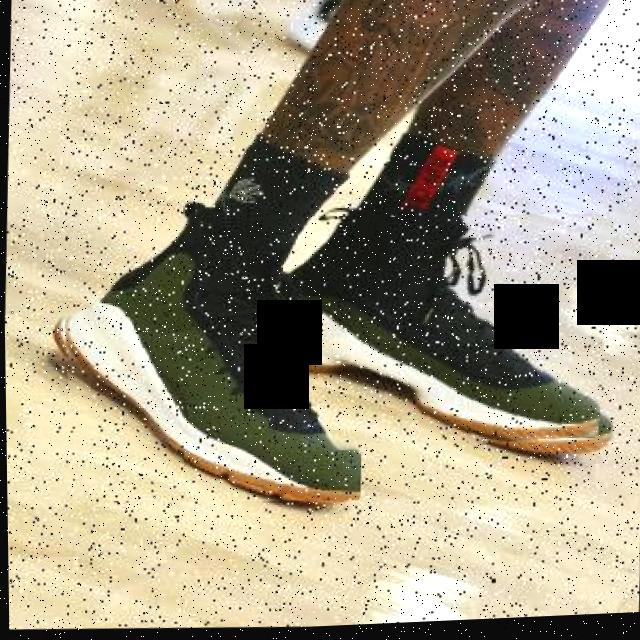shoe: (49, 208, 368, 514), (264, 207, 617, 469)
